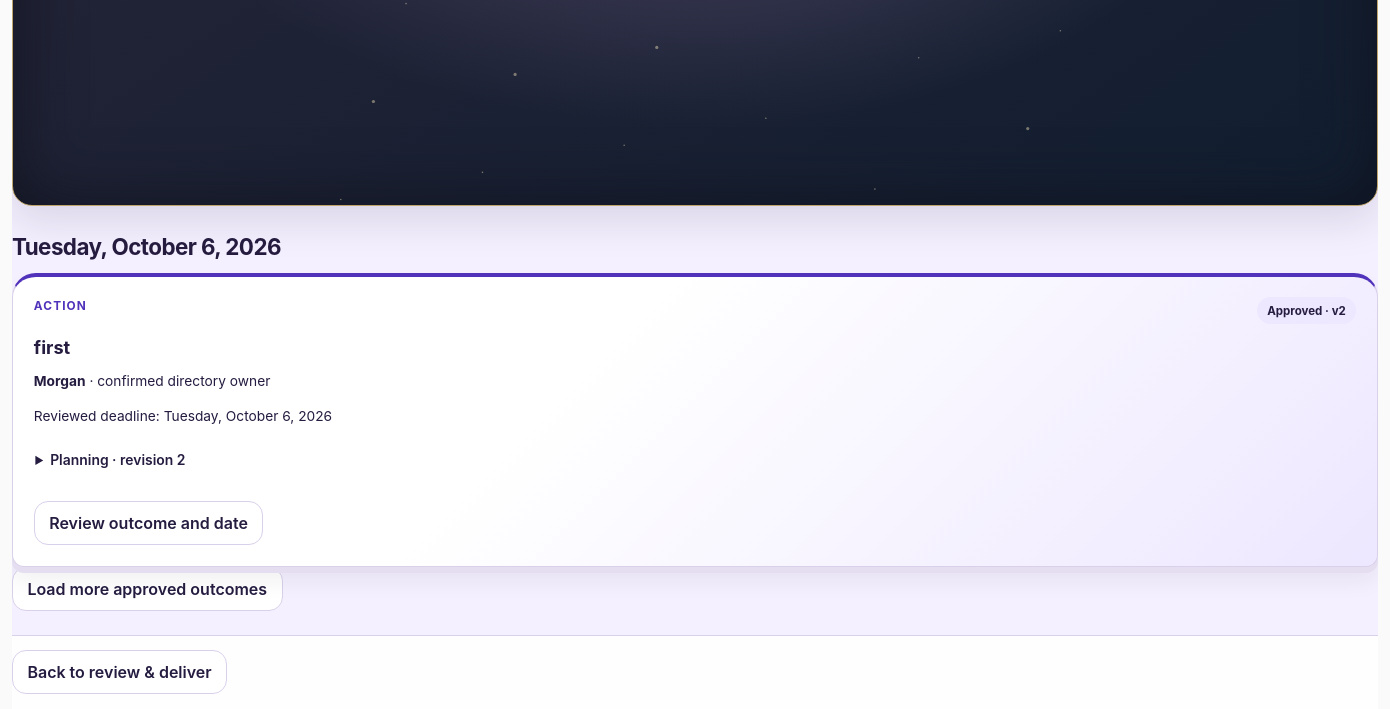
Test: loads additional records by identifier and shows incomplete feed status
(page scrolled)
Click the button "Load more approved outcomes" at (147, 589), box [12, 567, 282, 611]
(page scrolled)
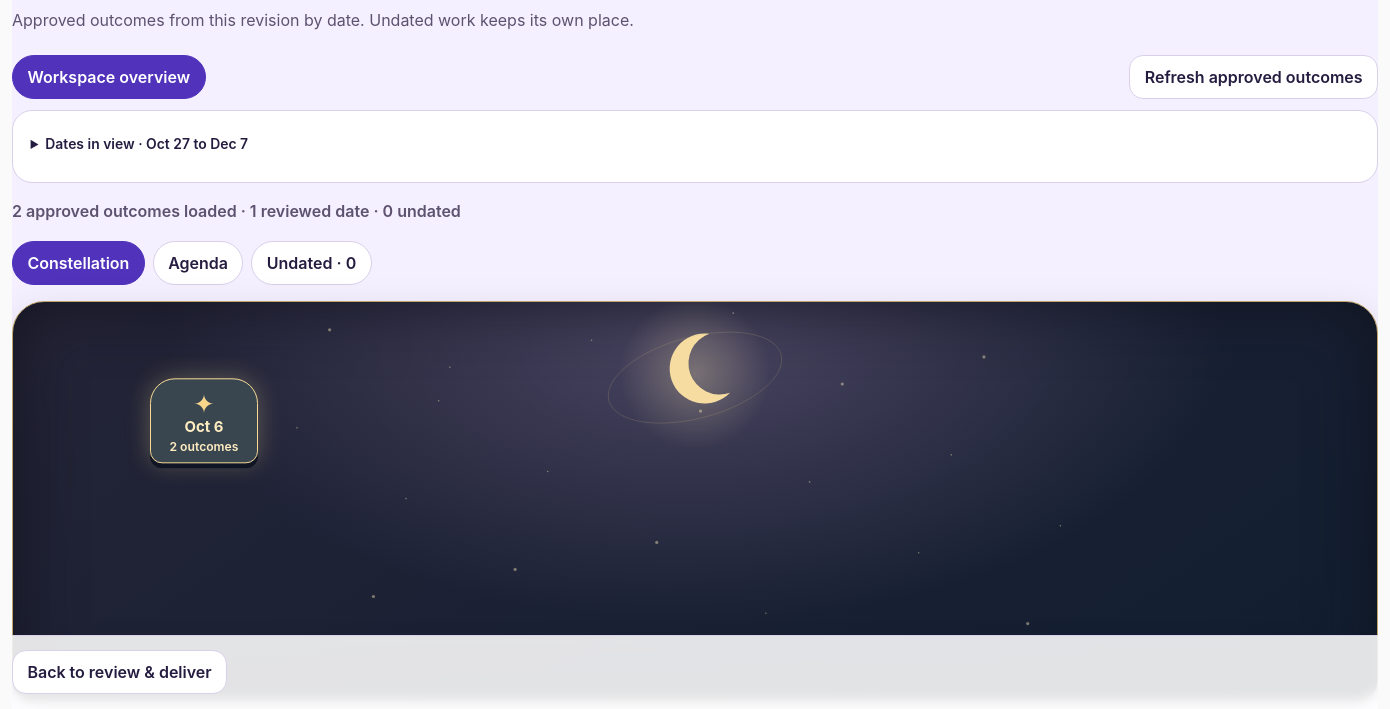
expect the text "2 approved outcomes loaded · 1 reviewed date · 0 undated" no longer shows "more outcomes available": met, box [12, 201, 461, 221]
